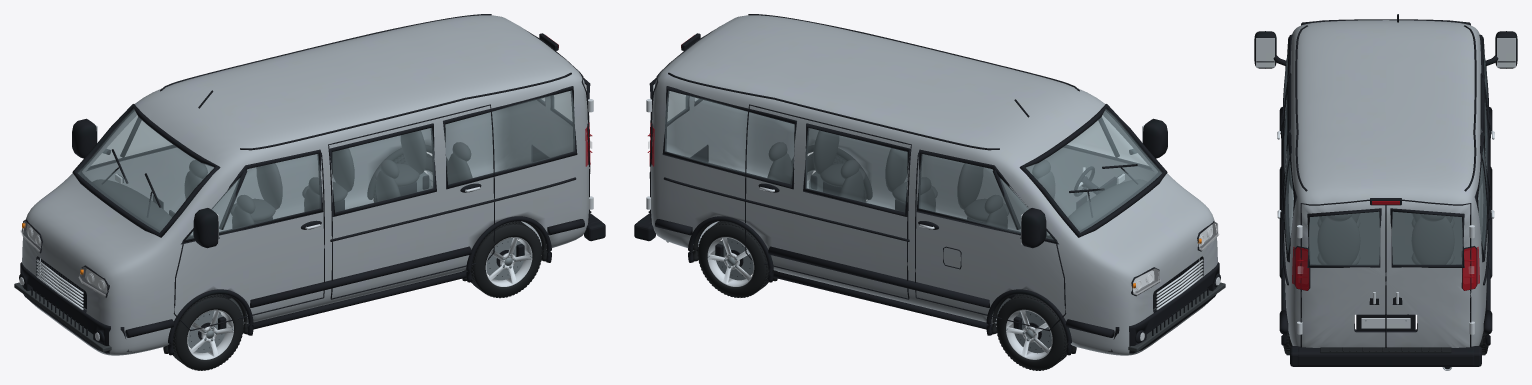
Rendered from van.glb.
3 views of the same model, side by side, from view 1: azimuth 30°, elevation 25°; view 2: azimuth 150°, elevation 25°; view 3: azimuth 270°, elevation 25° (orthographic).
Parts seen in each view (by area): view 1: Van continuous hollow 12-station steel shell, Van raked panoramic windscreen curved laminated transparent , Passenger bonded side glazing curved transparent pane -1.001, Passenger bonded side glazing curved transparent pane -1, Front door window curved transparent pane -1, Van raked panoramic windscreen recessed rubber gasket, 107 reused Sculpted_tyre, 107 reused Sculpted_tyre.002, Textured protective lower side rubbing strip.001, Rocker moulding, Wide moulded front bumper fascia, Sculpted dashboard (+23 smaller); view 2: Van continuous hollow 12-station steel shell, Van raked panoramic windscreen curved laminated transparent , Passenger bonded side glazing curved transparent pane 1.001, Passenger bonded side glazing curved transparent pane 1, Front door window curved transparent pane 1, 107 reused Sculpted_tyre.001, Van raked panoramic windscreen recessed rubber gasket, 107 reused Sculpted_tyre.003, Textured protective lower side rubbing strip.004, Wide moulded front bumper fascia, Rocker moulding.001, Sculpted dashboard (+23 smaller); view 3: Van continuous hollow 12-station steel shell, Rear barn door transparent glazing, Rear barn door transparent glazing.001, Cabin floor, Broad contoured rear step bumper main manufactured bar, Cabin row 3 contoured backrest, Cabin row 3 contoured backrest.001, Vertical corner wrap tail lamp continuous formed optical len (×2), Broad contoured rear step bumper step tread insert, Rear barn door glass gasket.001, Rear barn door glass gasket, Passenger bonded side glazing extruded EPDM surround 1.001 (+25 smaller).
Part boxes in pixels (bbox=[...]): Van continuous hollow 12-station steel shell: bbox=[22, 15, 588, 355]; Van raked panoramic windscreen curved laminated transparent : bbox=[77, 108, 213, 232]; Passenger bonded side glazing curved transparent pane -1.001: bbox=[445, 90, 574, 184]; Passenger bonded side glazing curved transparent pane -1: bbox=[332, 128, 434, 212]; Front door window curved transparent pane -1: bbox=[182, 154, 321, 241]; Van raked panoramic windscreen recessed rubber gasket: bbox=[72, 104, 220, 237]; 107 reused Sculpted_tyre: bbox=[171, 294, 243, 370]; 107 reused Sculpted_tyre.002: bbox=[470, 221, 541, 297]; Textured protective lower side rubbing strip.001: bbox=[250, 246, 471, 307]; Rocker moulding: bbox=[247, 271, 466, 330]; Wide moulded front bumper fascia: bbox=[20, 262, 134, 353]; Sculpted dashboard: bbox=[92, 179, 186, 239]; Van continuous hollow 12-station steel shell: bbox=[651, 15, 1217, 355]; Van raked panoramic windscreen curved laminated transparent : bbox=[1026, 108, 1162, 232]; Passenger bonded side glazing curved transparent pane 1.001: bbox=[664, 90, 794, 184]; Passenger bonded side glazing curved transparent pane 1: bbox=[805, 128, 907, 212]; Front door window curved transparent pane 1: bbox=[918, 154, 1057, 241]; 107 reused Sculpted_tyre.001: bbox=[996, 294, 1068, 370]; Van raked panoramic windscreen recessed rubber gasket: bbox=[1019, 104, 1167, 237]; 107 reused Sculpted_tyre.003: bbox=[698, 221, 769, 297]; Textured protective lower side rubbing strip.004: bbox=[768, 246, 989, 307]; Wide moulded front bumper fascia: bbox=[1105, 262, 1219, 353]; Rocker moulding.001: bbox=[773, 271, 992, 330]; Sculpted dashboard: bbox=[1053, 179, 1147, 239]; Van continuous hollow 12-station steel shell: bbox=[1284, 20, 1487, 347]; Rear barn door transparent glazing: bbox=[1309, 211, 1379, 265]; Rear barn door transparent glazing.001: bbox=[1392, 211, 1462, 264]; Cabin floor: bbox=[1309, 211, 1462, 264]; Broad contoured rear step bumper main manufactured bar: bbox=[1297, 347, 1474, 366]; Cabin row 3 contoured backrest: bbox=[1317, 216, 1360, 264]; Cabin row 3 contoured backrest.001: bbox=[1411, 216, 1454, 264]; Vertical corner wrap tail lamp continuous formed optical len (×2): bbox=[1295, 247, 1476, 290]; Broad contoured rear step bumper step tread insert: bbox=[1320, 347, 1451, 353]; Rear barn door glass gasket.001: bbox=[1390, 208, 1464, 267]; Rear barn door glass gasket: bbox=[1307, 208, 1381, 267]; Passenger bonded side glazing extruded EPDM surround 1.001: bbox=[1474, 132, 1490, 262].
Bounding box in the file's own units: 5.7 × 2.44 × 2.62.
10 materials, 10 textured.
